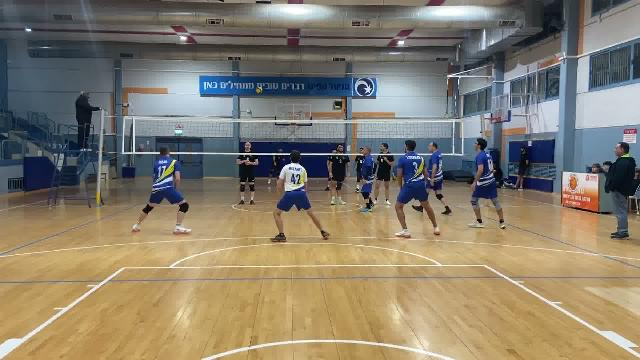ball: (253, 86, 264, 96)
